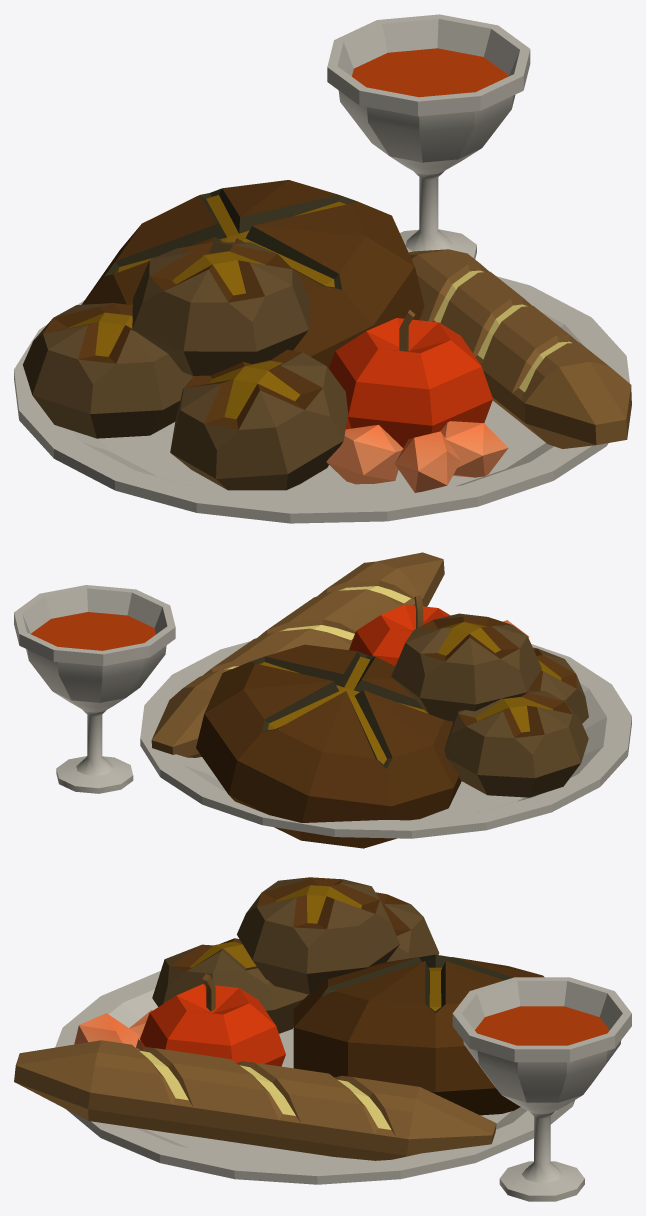
File: breadfeast.fbx
3 renders of one model, top to bottom at view 1: azimuth 30°, elevation 25°; view 2: azimuth 150°, elevation 25°; view 3: azimuth 270°, elevation 25°, orthographic. The views are drawn at different scales.
Parts seen in each view (by area): view 1: polySurface123; view 2: polySurface123; view 3: polySurface123.
Part boxes in pixels (x1=…): polySurface123: x1=14, y1=14, x2=631, y2=523; polySurface123: x1=14, y1=552, x2=631, y2=848; polySurface123: x1=14, y1=877, x2=631, y2=1201.
Bounding box in the file's own units: 212 × 79.91 × 222.
Materials: 1 (1 with a texture image).
